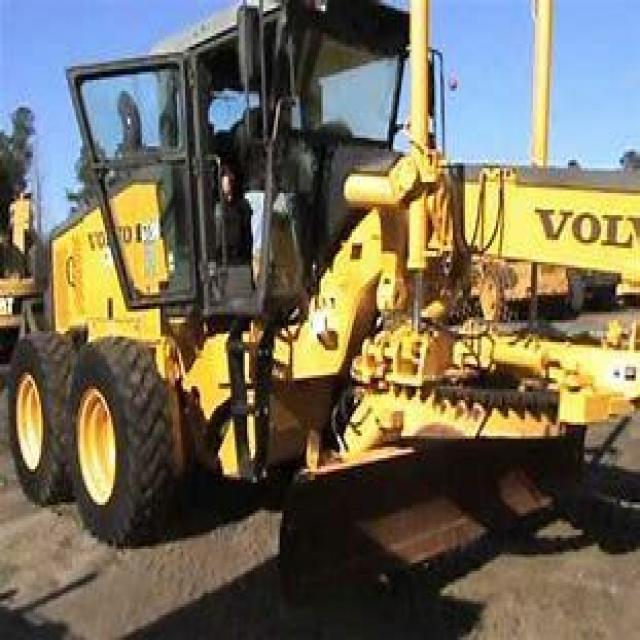Grader: (0, 0, 638, 549)
